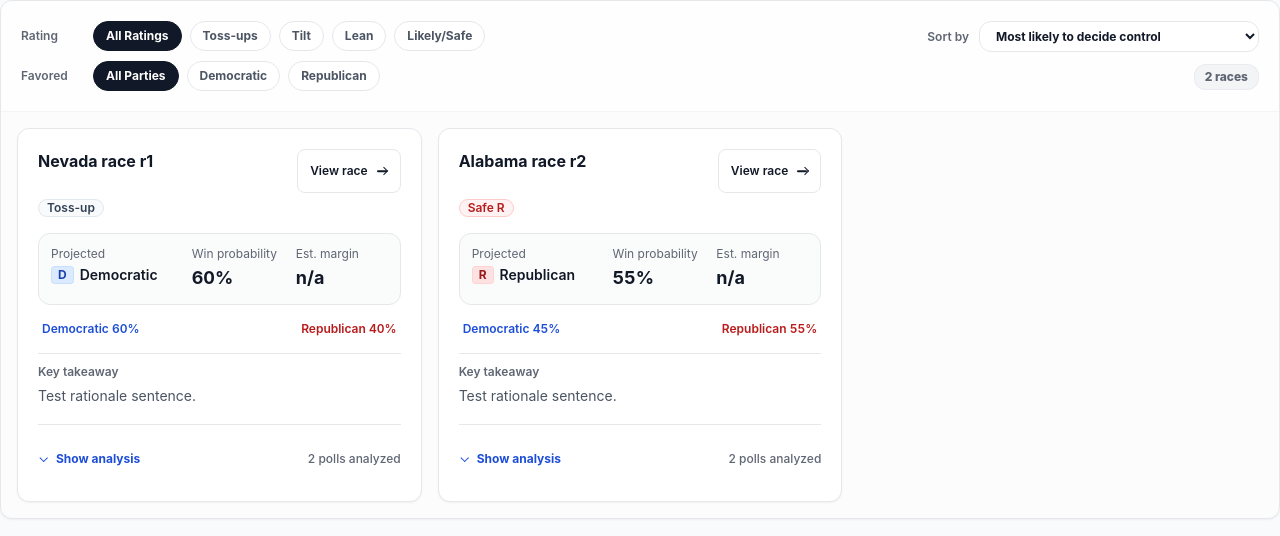
Scenario: ForecastRaceList › filters races by rating and party pills
Expected: the text "2 races" is shown, [1194, 64, 1259, 90]
Expected: the link "Nevada race r1" is shown, [38, 149, 153, 173]
Click the button "Toss-ups". click: (230,36)
box: [190, 21, 271, 51]
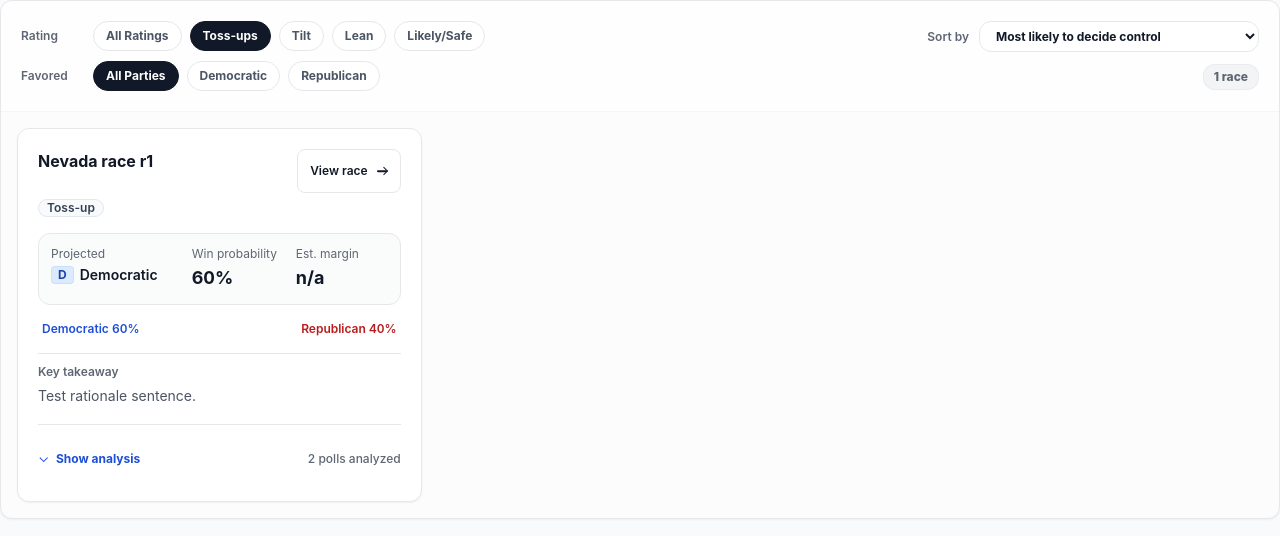
Expected: the link "Nevada race r1" is shown, [38, 149, 153, 173]
Now the text "1 race" is shown, box [1203, 64, 1259, 90]
Now the link "Alabama race r2" is gone
